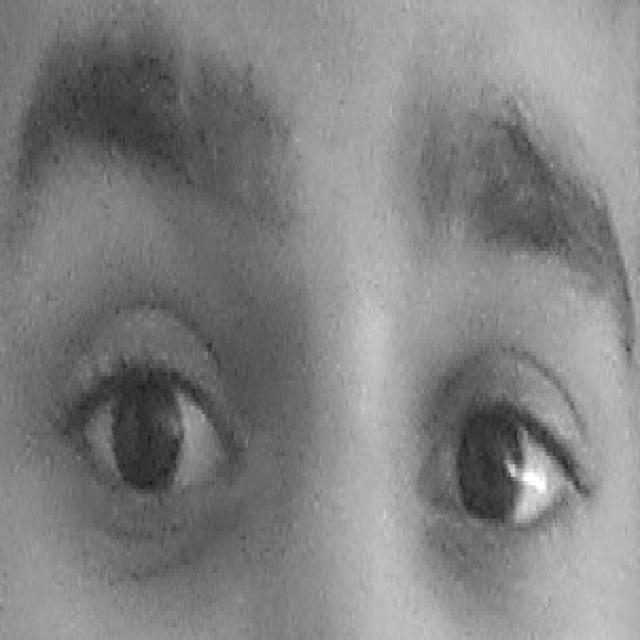real: (24, 123, 624, 616)
